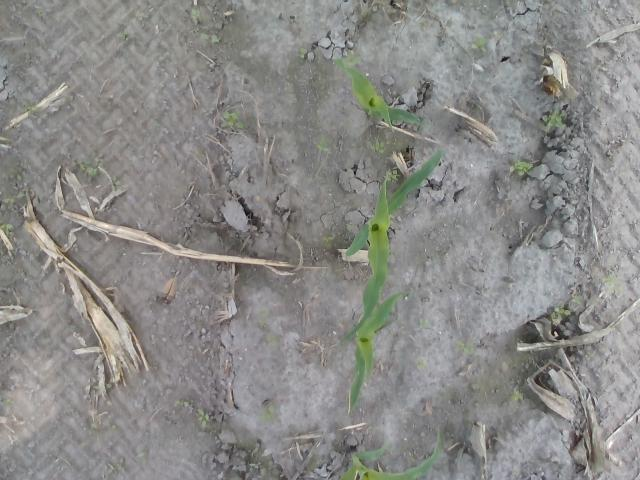Maize: (344, 146, 444, 258), (338, 170, 392, 346), (348, 290, 406, 413), (334, 58, 428, 132), (334, 425, 442, 480)
Weeds: (76, 155, 102, 179), (541, 110, 564, 131), (5, 164, 24, 186), (104, 459, 128, 476), (222, 110, 242, 130), (508, 160, 532, 176), (468, 34, 488, 53), (0, 192, 25, 206), (19, 98, 36, 116), (602, 276, 621, 292), (550, 308, 570, 323), (260, 406, 276, 424), (198, 408, 210, 430), (200, 34, 220, 46), (257, 308, 267, 331), (116, 28, 134, 40), (384, 168, 398, 182), (417, 318, 431, 331), (370, 138, 383, 152), (459, 340, 472, 354), (315, 139, 329, 152), (2, 224, 13, 240), (266, 332, 278, 346), (172, 400, 192, 408), (512, 389, 523, 402), (110, 178, 120, 192), (324, 235, 336, 246), (1, 398, 12, 409), (414, 358, 422, 372), (190, 8, 199, 20), (38, 8, 46, 19), (343, 222, 354, 230), (298, 47, 306, 58)
